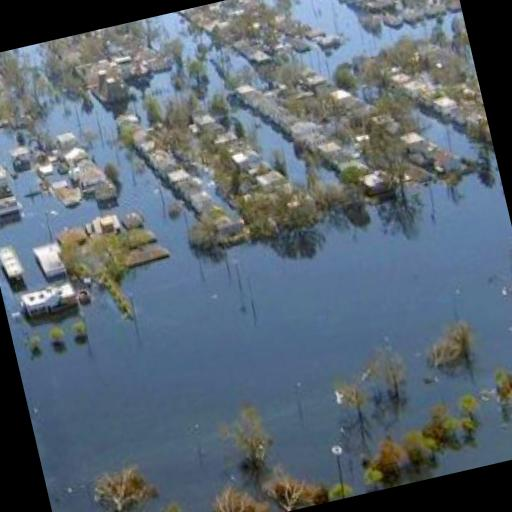flood: (0, 94, 512, 512), (296, 0, 436, 74), (140, 12, 250, 73), (229, 106, 305, 189), (417, 110, 479, 161), (204, 59, 226, 109), (26, 43, 49, 78), (128, 89, 148, 126), (0, 130, 14, 173), (150, 72, 174, 94), (262, 0, 274, 4)
house: (22, 282, 80, 318), (356, 166, 400, 206), (32, 238, 69, 284), (79, 169, 120, 205), (0, 193, 25, 232), (0, 156, 15, 202)
